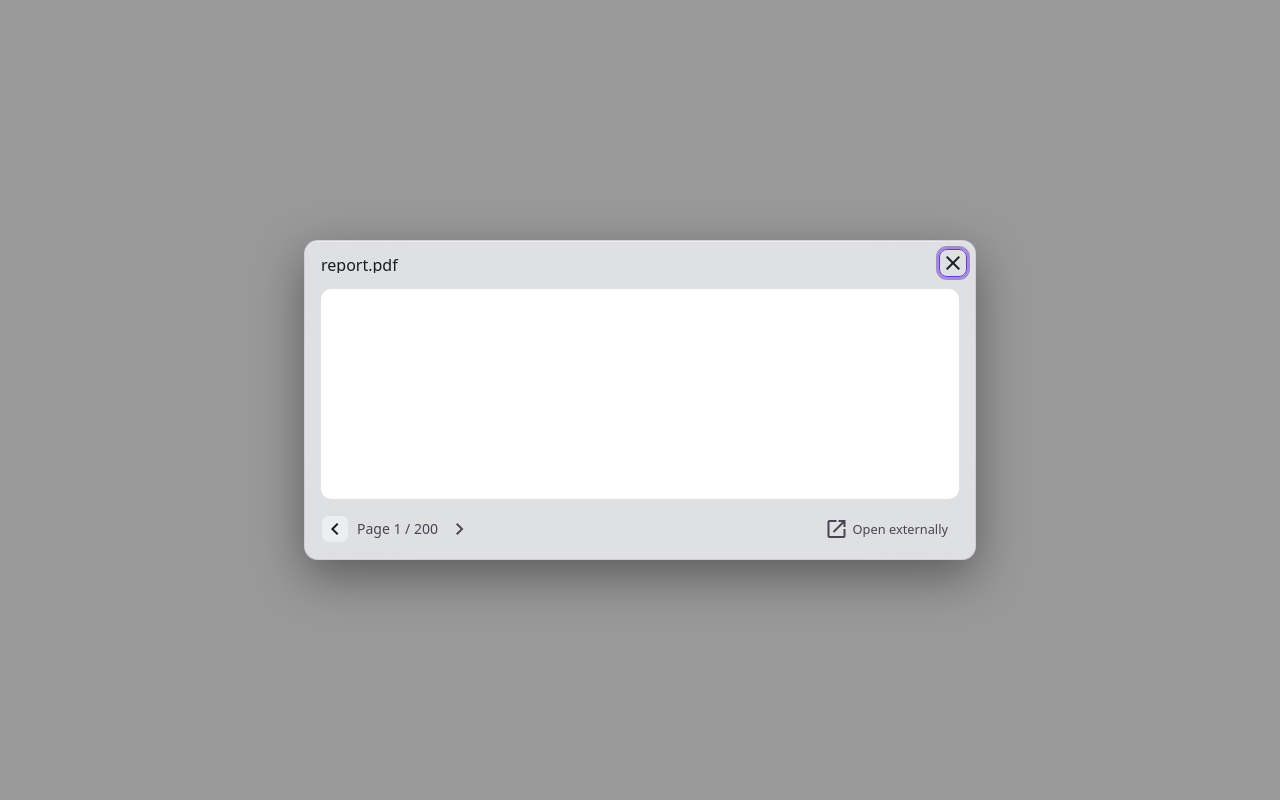
Test: PdfPreview › caps the preview window at 200 pages and offers open-externally past the cap
The image size is (1280, 800).
Expected: the text "Page 1 / 200" is shown, [353,519,442,539]
Expected: the button "Open externally" is shown, [814,515,959,543]
Click the button named "Next page": (460, 529) [446,515,474,543]
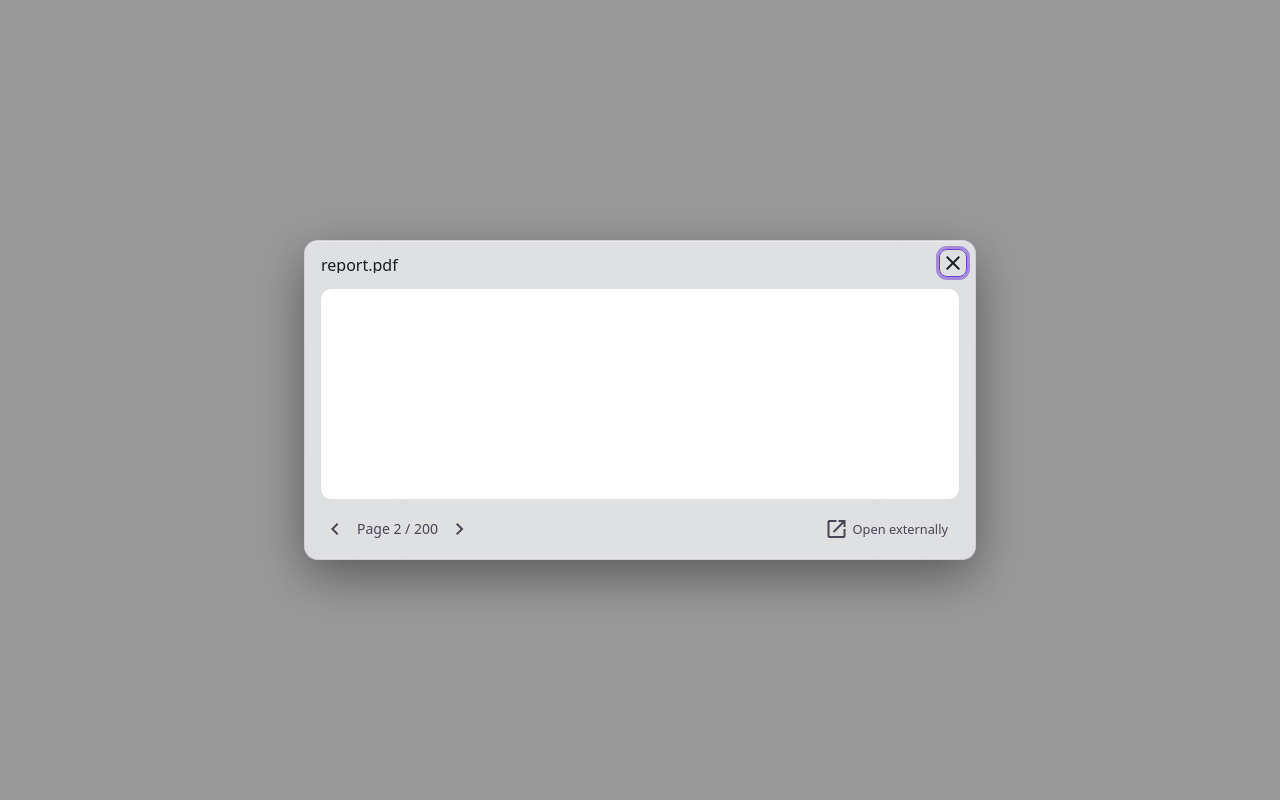
Expected: the text "Page 2 / 200" is shown, [353,519,442,539]
